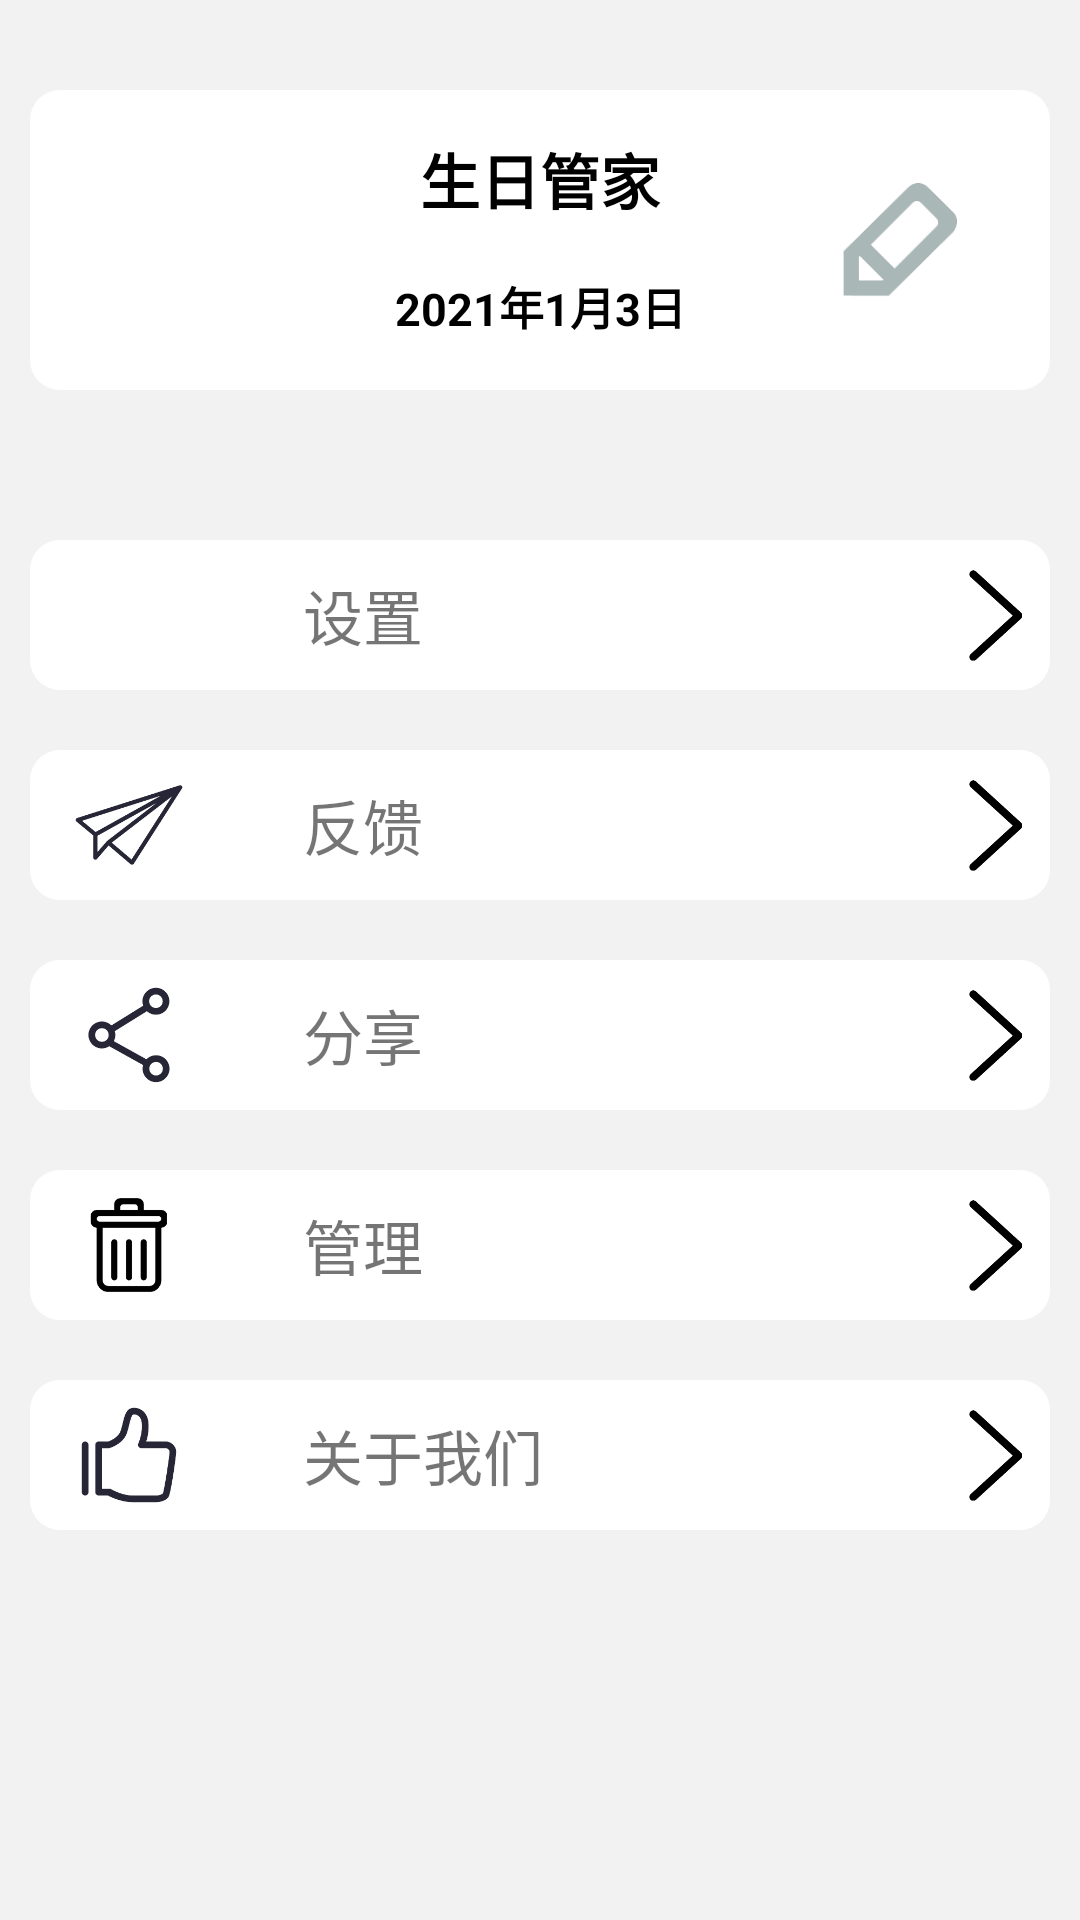

Locate icon controls on the screen. Image size 1080x1920, boxes as (x1, y1, x2, y2).
pen: (843, 183, 957, 296)
right: (969, 570, 1022, 661), (969, 780, 1022, 871), (969, 990, 1022, 1081), (969, 1200, 1022, 1291), (969, 1410, 1022, 1501)
send: (75, 785, 183, 865)
share: (88, 987, 170, 1082)
suportus: (81, 1407, 177, 1503)
trash: (90, 1198, 167, 1292)
